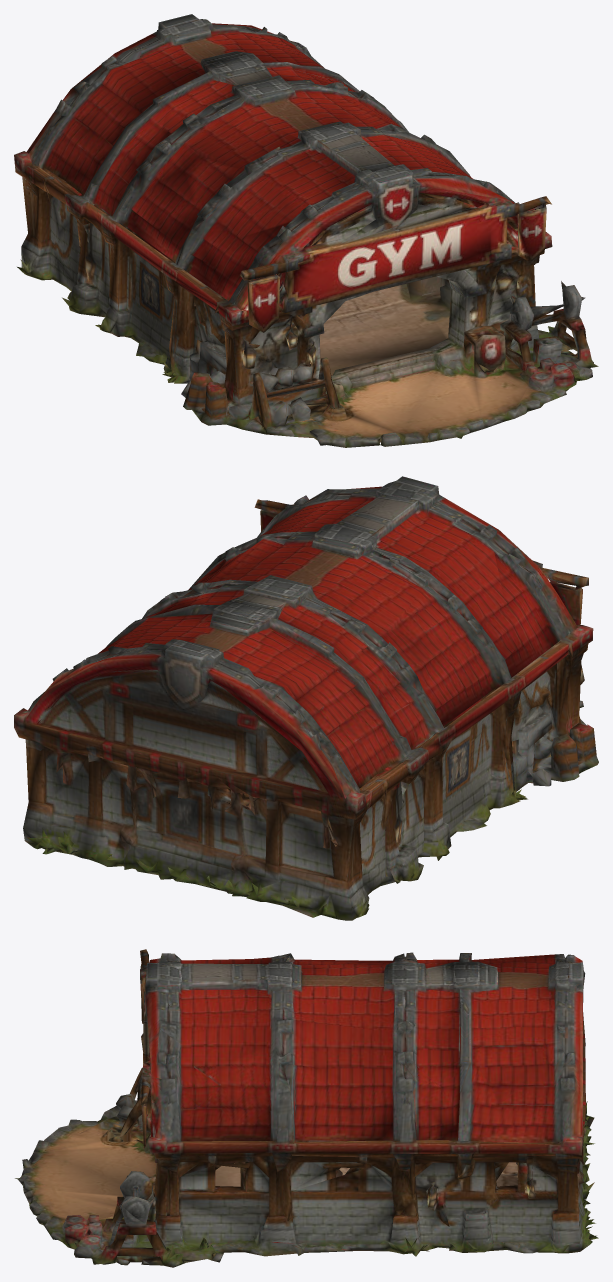
Rendered from life-gym.glb.
3 views of the same model, one above another, from view 1: azimuth 30°, elevation 25°; view 2: azimuth 150°, elevation 25°; view 3: azimuth 270°, elevation 25° (orthographic). The views are drawn at different scales.
Parts seen in each view (by area): view 1: Mesh1.0; view 2: Mesh1.0; view 3: Mesh1.0.
Part boxes in pixels (x1=…): Mesh1.0: x1=14, y1=14, x2=598, y2=447; Mesh1.0: x1=14, y1=476, x2=598, y2=920; Mesh1.0: x1=15, y1=949, x2=598, y2=1267.
Size of the model in its own units: 1.36 by 0.7601 by 1.92.
Materials: 1 (1 with a texture image).
